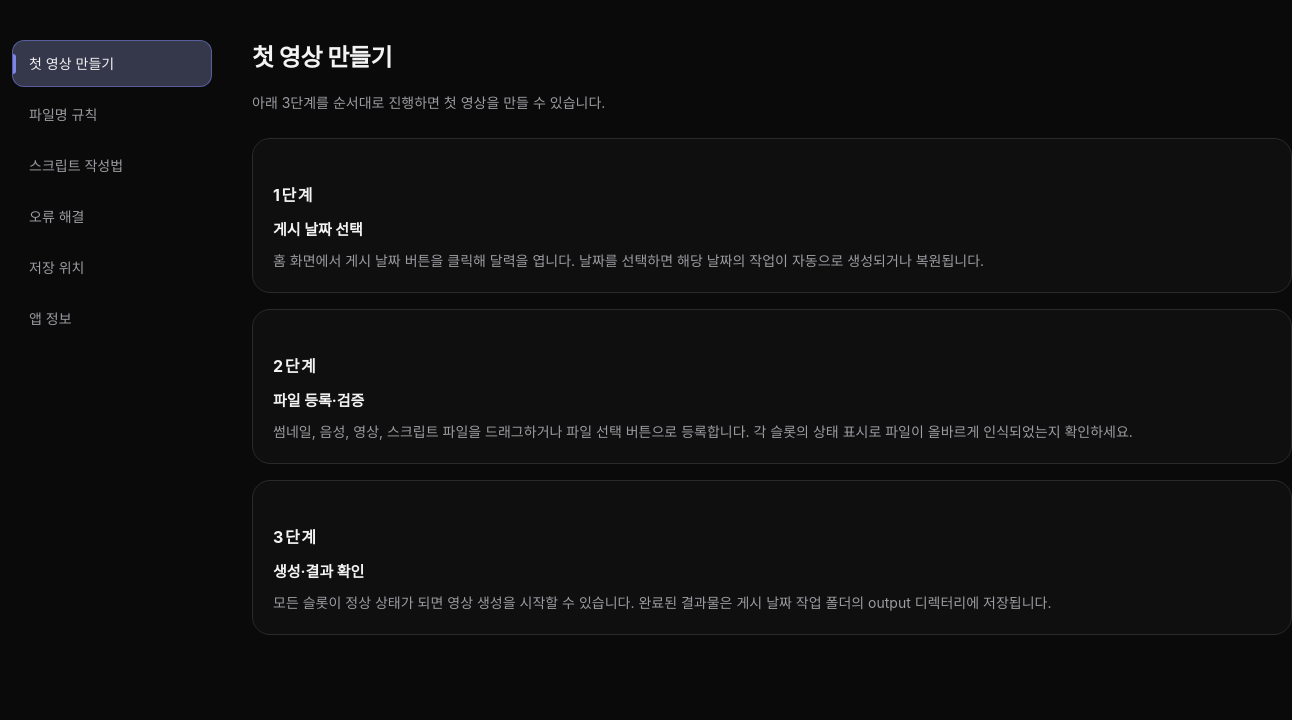
Scenario: GuideView › shows voice and bgm naming rules in 파일명 규칙 section
Click the button "파일명 규칙" at (112,114), box [12, 91, 212, 138]
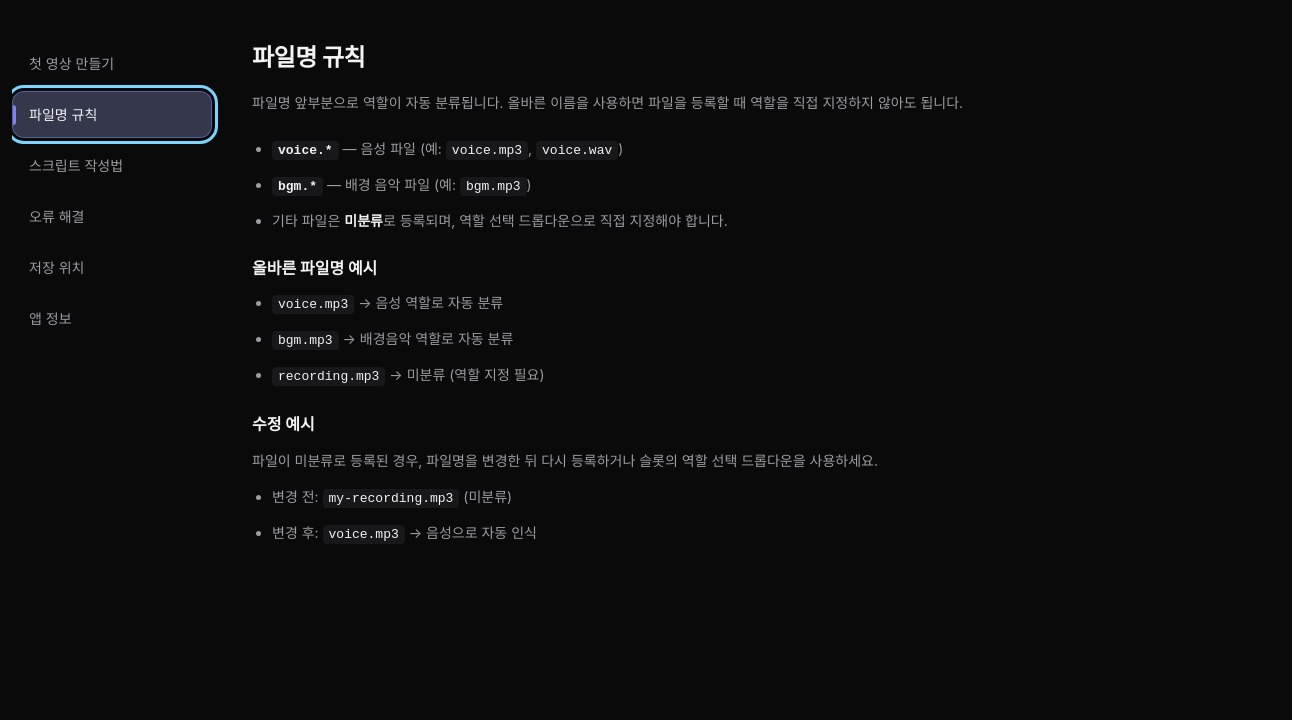
Check: the text "voice.*" is shown, box [272, 141, 339, 160]
Check: the text "bgm.*" is shown, box [272, 177, 323, 196]
